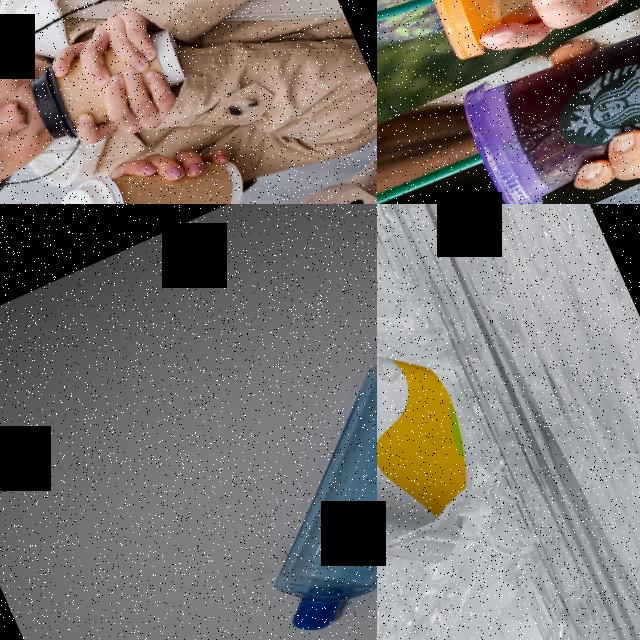bottle: (206, 323, 377, 640)
can: (377, 233, 505, 623)
cup: (452, 0, 640, 204), (20, 8, 196, 148), (37, 121, 256, 204), (401, 0, 640, 66), (495, 103, 640, 204)
